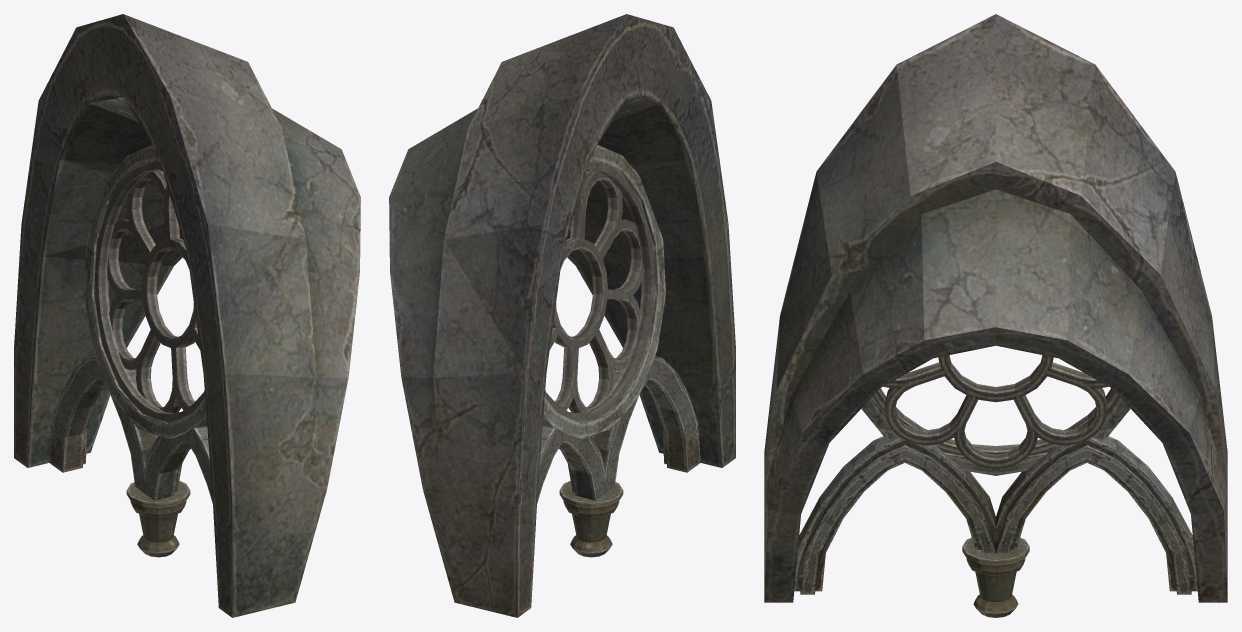
Rendered from bg_lut_lutomb_structure05_sm_old.FBX.
The picture shows the model from 3 angles, left to right: view 1: azimuth 30°, elevation 25°; view 2: azimuth 150°, elevation 25°; view 3: azimuth 270°, elevation 25°; orthographic projection. The views are drawn at different scales.
Parts seen in each view (by area): view 1: bg_lut_lutomb_structure05_sm_old; view 2: bg_lut_lutomb_structure05_sm_old; view 3: bg_lut_lutomb_structure05_sm_old.
Boxes of the visible parts, x1,y1,x2,y2 form: bg_lut_lutomb_structure05_sm_old: [14, 14, 360, 617]; bg_lut_lutomb_structure05_sm_old: [389, 14, 735, 617]; bg_lut_lutomb_structure05_sm_old: [764, 14, 1227, 617].
Size of the model in its own units: 111 by 265 by 192.
